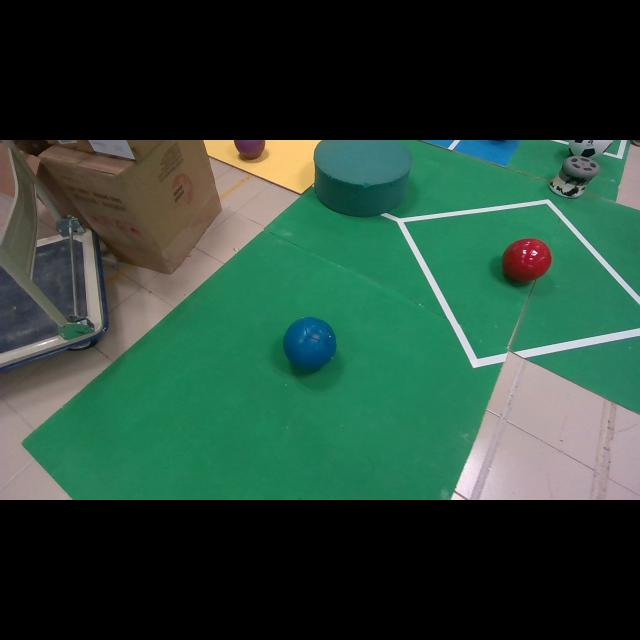B: (284, 318, 336, 370)
P: (234, 140, 265, 159)
R: (501, 238, 552, 281)
